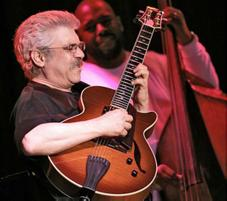person: (10, 11, 151, 197)
